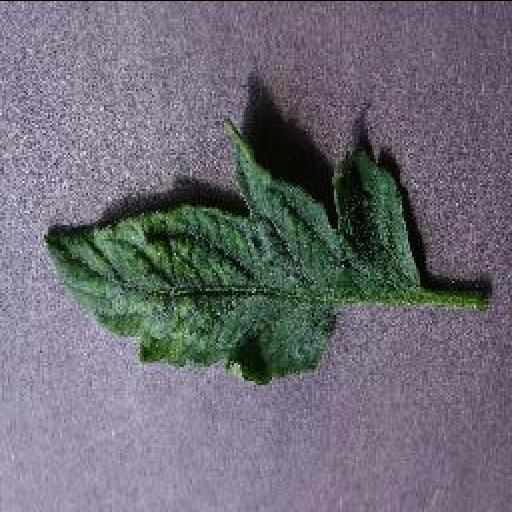Mosaic Virus: (46, 114, 422, 384)
